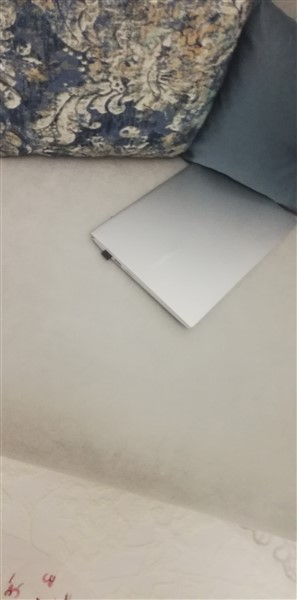laptop: (93, 142, 297, 333)
